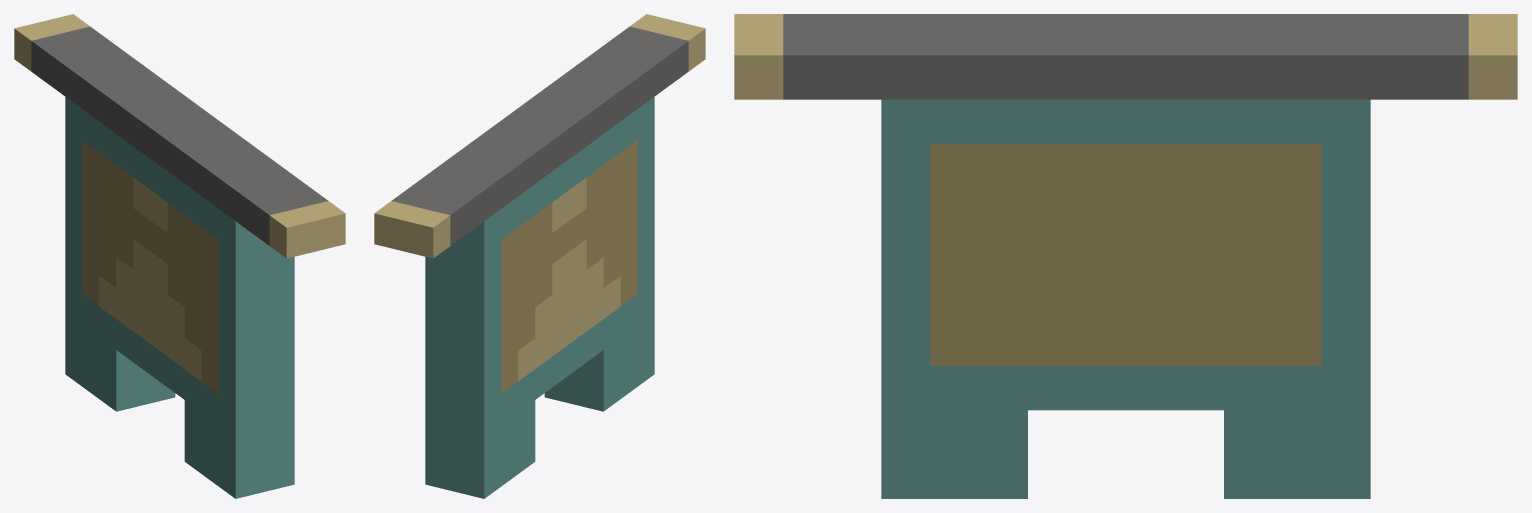
The model's file is banner_sl.glb.
The picture shows the model from 3 angles, left to right: view 1: azimuth 30°, elevation 25°; view 2: azimuth 150°, elevation 25°; view 3: azimuth 270°, elevation 25°; orthographic projection. The views are drawn at different scales.
Size of the model in its own units: 2 by 10 by 16.
